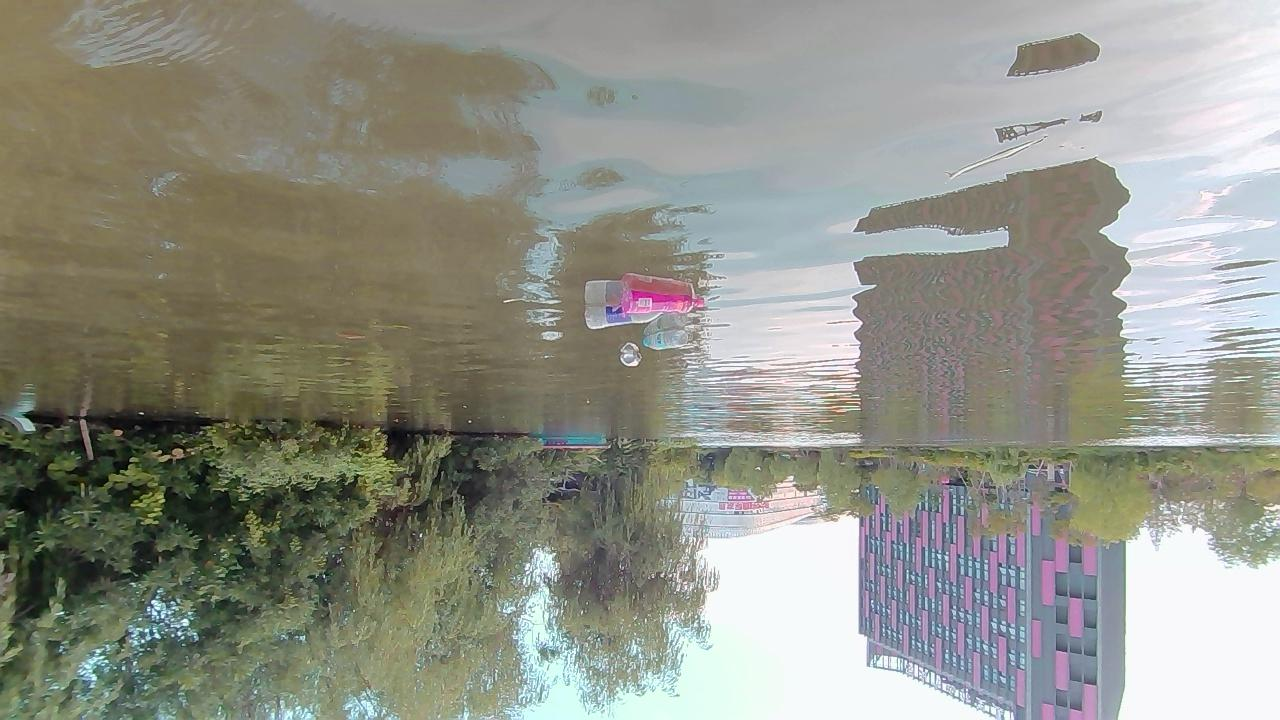Metal: (618, 351, 643, 368)
Plastic: (621, 288, 706, 315), (583, 305, 664, 331), (642, 329, 690, 351)
